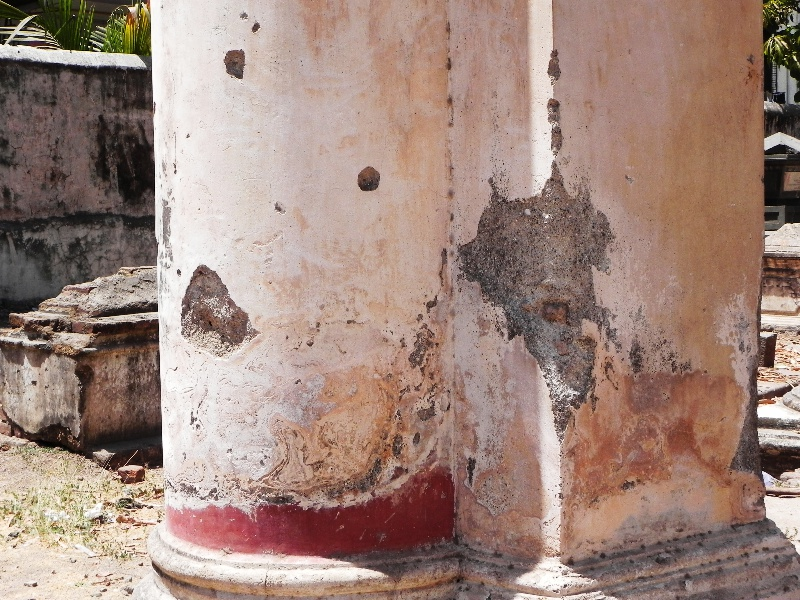Spalling: (458, 157, 617, 444), (172, 254, 267, 365), (721, 349, 763, 492), (217, 44, 250, 83), (356, 160, 381, 194)
